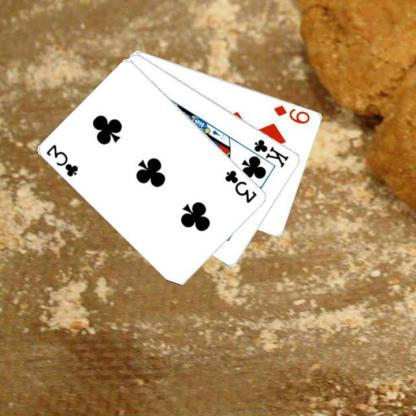3C: (222, 168, 259, 204), (44, 142, 80, 178)
9D: (272, 102, 312, 126)
KC: (244, 136, 290, 170)
